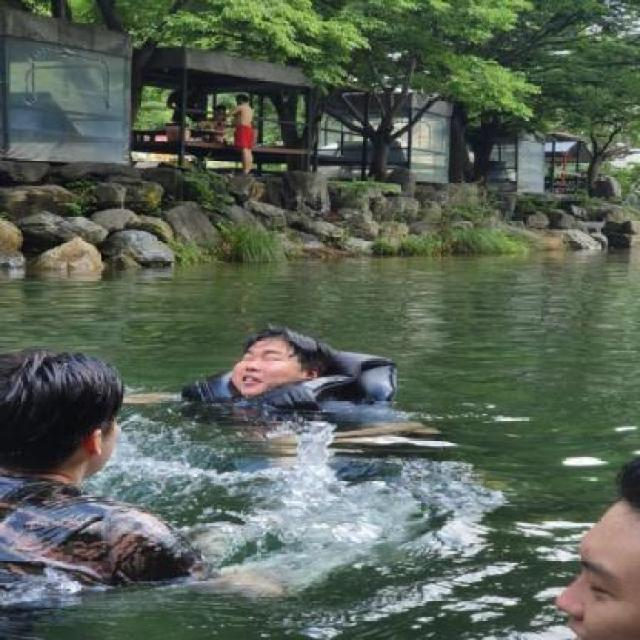drowning: (164, 291, 422, 515)
